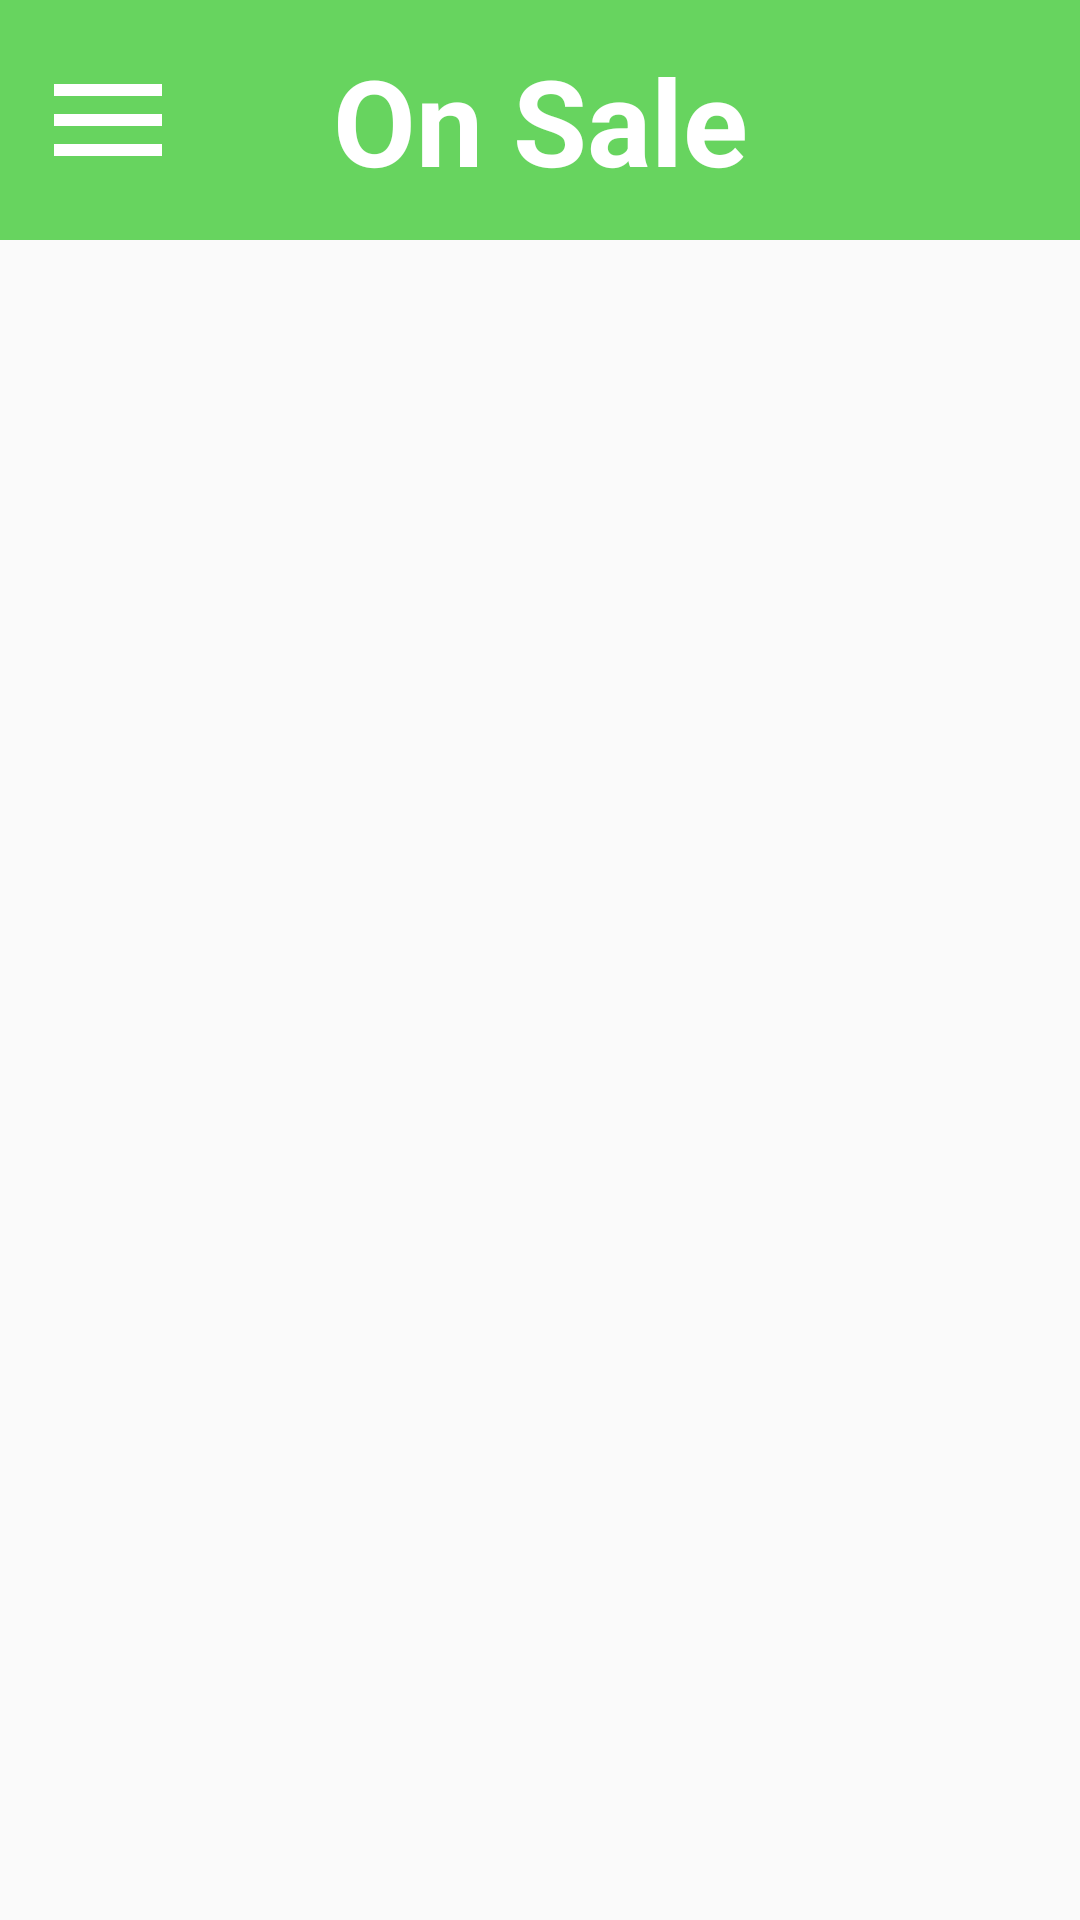

Icon bounding boxes for this 1080w x 1920h phone screenshot, format (x1, y1, x2, y2):
three horizontal line: (54, 84, 162, 156)
